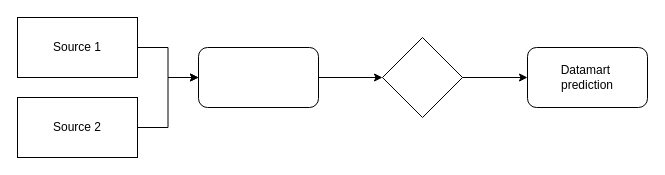
Image size: 665x175. Some labels were removed from this diagram. Each missing label, with the box of its shape:
Datamart features: (198, 46, 318, 108)
Model: (382, 36, 462, 118)
